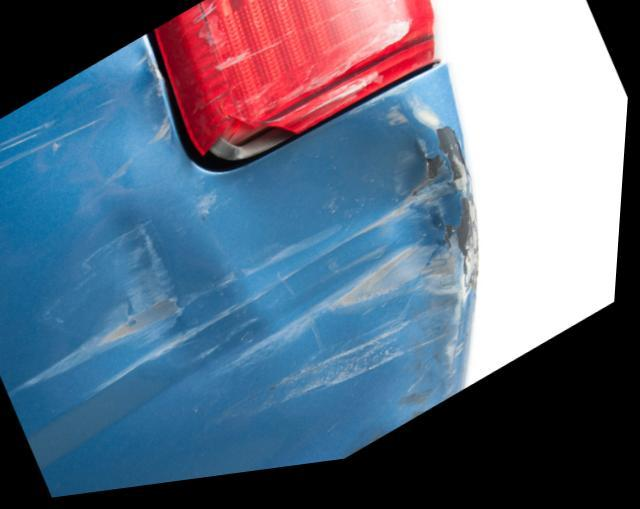dent: (64, 53, 480, 476)
lamp broken: (155, 0, 442, 170)
